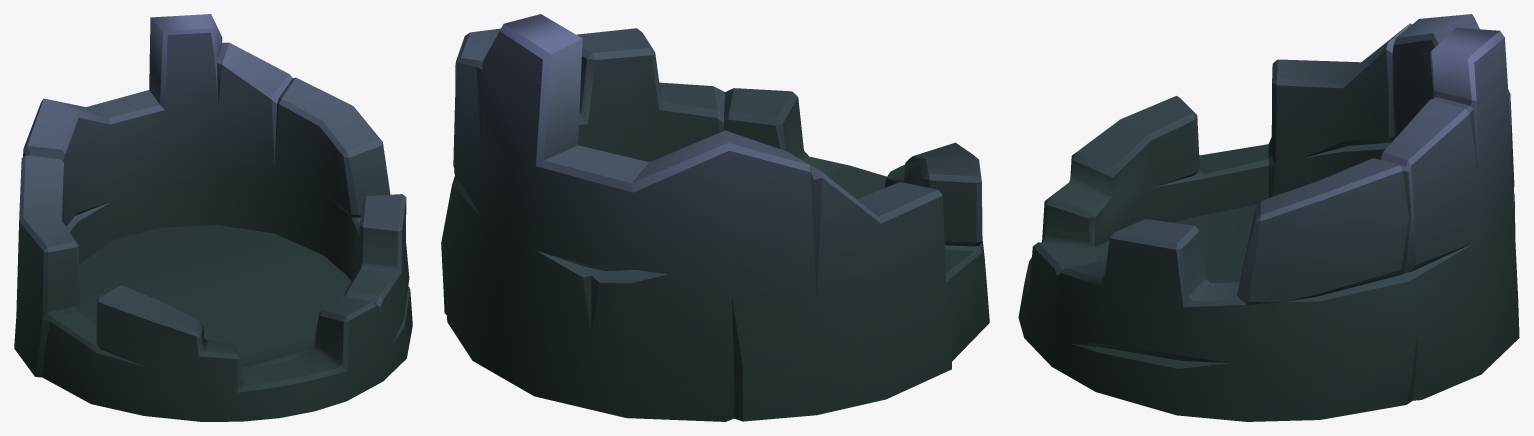
The model's file is undead_ruins_01.fbx.
3 renders of one model, left to right at view 1: azimuth 30°, elevation 25°; view 2: azimuth 150°, elevation 25°; view 3: azimuth 270°, elevation 25°, orthographic. The views are drawn at different scales.
Parts seen in each view (by area): view 1: undead_ruins_01; view 2: undead_ruins_01; view 3: undead_ruins_01.
Boxes of the visible parts, x1,y1,x2,y2 form: undead_ruins_01: (14, 14, 412, 421); undead_ruins_01: (441, 14, 989, 421); undead_ruins_01: (1018, 14, 1519, 421).
Size of the model in its own units: 7.42 by 5.03 by 7.47.
